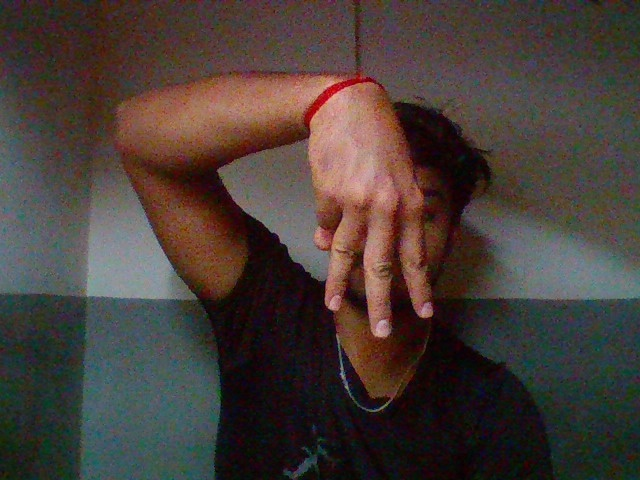M: (297, 92, 446, 339)
